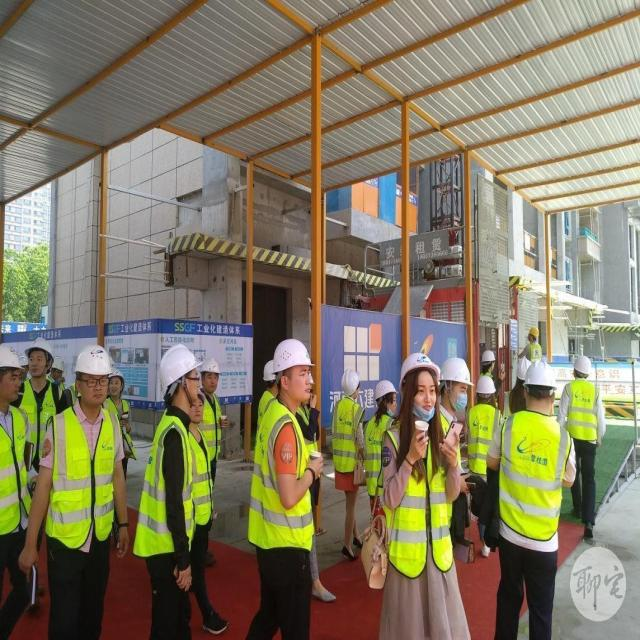vest: (47, 406, 128, 558), (248, 402, 318, 548), (501, 405, 567, 545), (144, 421, 192, 555)
